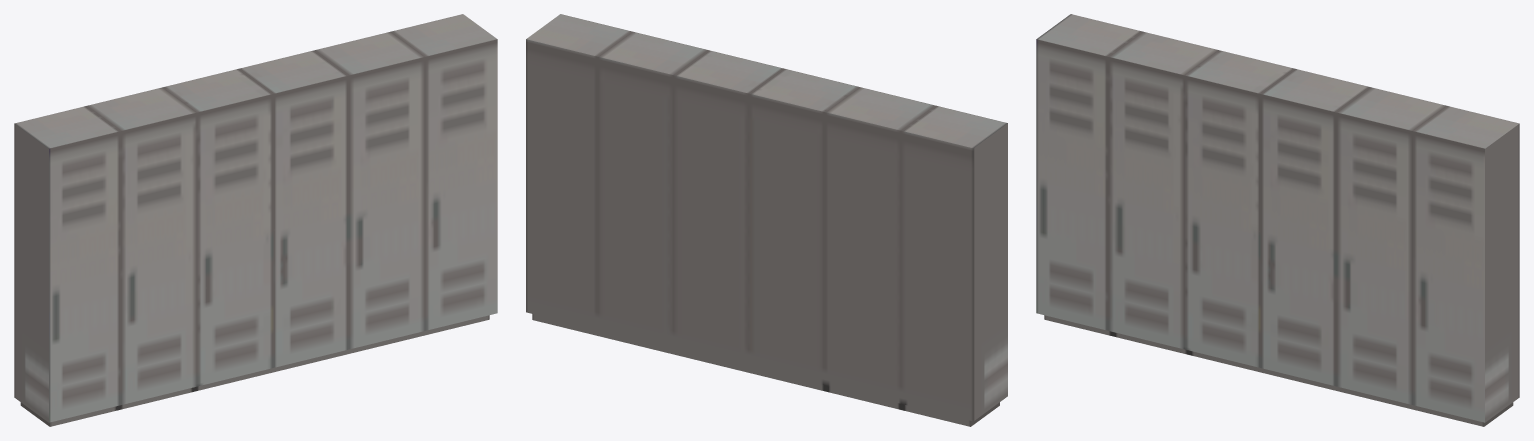
The model's file is Building_AncientLockerBank.glb.
3 views of the same model, side by side, from view 1: azimuth 30°, elevation 25°; view 2: azimuth 150°, elevation 25°; view 3: azimuth 330°, elevation 25° (orthographic).
Visible parts, largest first — view 1: AncientLockerBank; view 2: AncientLockerBank; view 3: AncientLockerBank.
Boxes of the visible parts, box(x1,y1,x2,y2) form: AncientLockerBank: box(14, 14, 497, 426); AncientLockerBank: box(526, 14, 1007, 426); AncientLockerBank: box(1036, 14, 1519, 426).
Bounding box in the file's own units: 3 × 1.8 × 0.4.
1 material, 1 textured.
